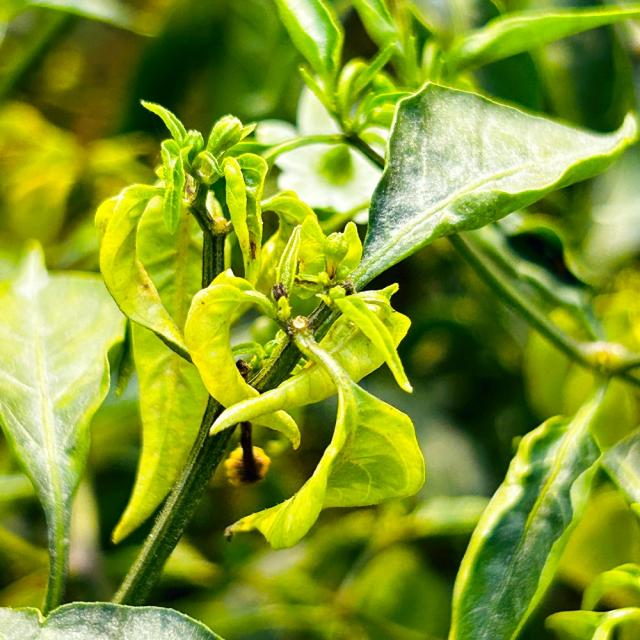Chilli_Leaf_Curl: (2, 1, 638, 637), (94, 99, 428, 551), (340, 79, 637, 294), (212, 281, 427, 550), (448, 371, 638, 638), (0, 238, 129, 615)
